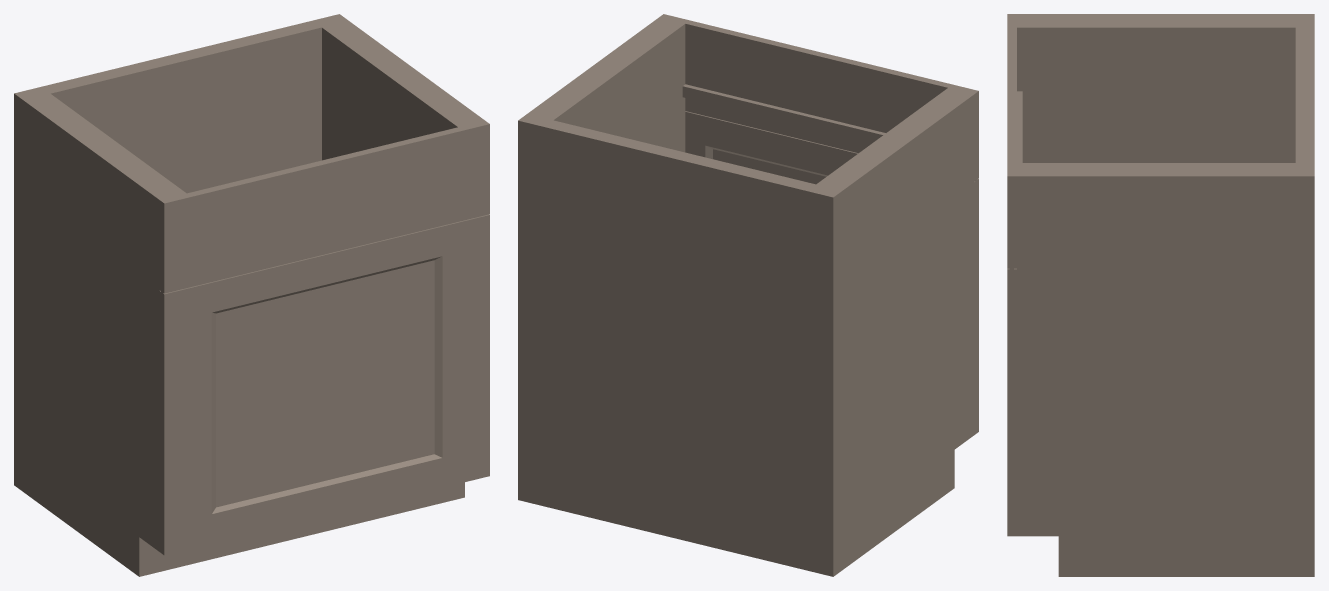
File: Base-Cabinet-Wastebasket-24-Deep_std_001_W30in_2D.glb
3 views of the same model, side by side, from view 1: azimuth 30°, elevation 25°; view 2: azimuth 150°, elevation 25°; view 3: azimuth 270°, elevation 25° (orthographic). The views are drawn at different scales.
Visible parts, largest first — view 1: Base-Cabinet-Wastebasket-24-Deep.std.001_W30in_2D; view 2: Base-Cabinet-Wastebasket-24-Deep.std.001_W30in_2D; view 3: Base-Cabinet-Wastebasket-24-Deep.std.001_W30in_2D.
Boxes of the visible parts, box(x1,y1,x2,y2) form: Base-Cabinet-Wastebasket-24-Deep.std.001_W30in_2D: box(14, 14, 489, 576); Base-Cabinet-Wastebasket-24-Deep.std.001_W30in_2D: box(518, 14, 978, 576); Base-Cabinet-Wastebasket-24-Deep.std.001_W30in_2D: box(1007, 14, 1314, 576).
Size of the model in its own units: 0.762 by 0.8763 by 0.6096.
